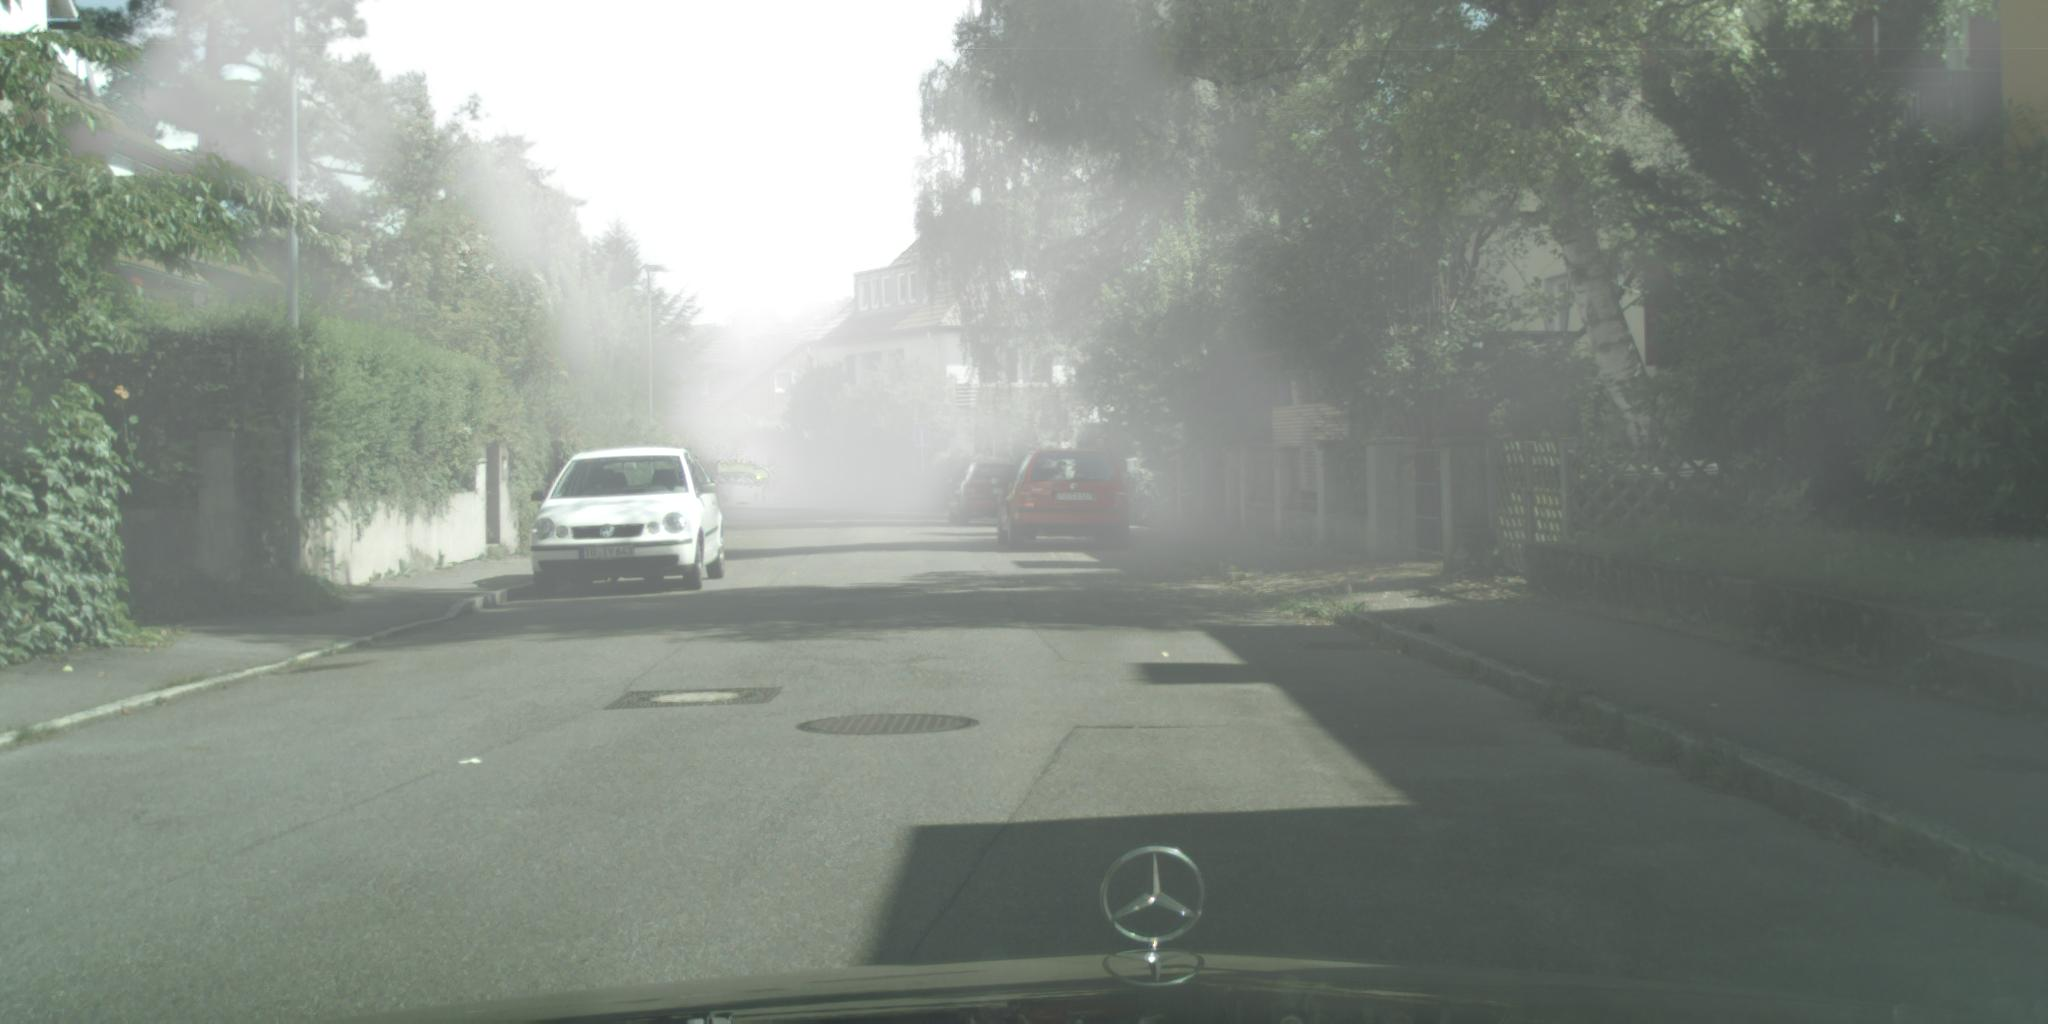car: (530, 444, 726, 598), (995, 451, 1131, 554), (948, 462, 1020, 526), (707, 472, 772, 509), (767, 465, 795, 498)
